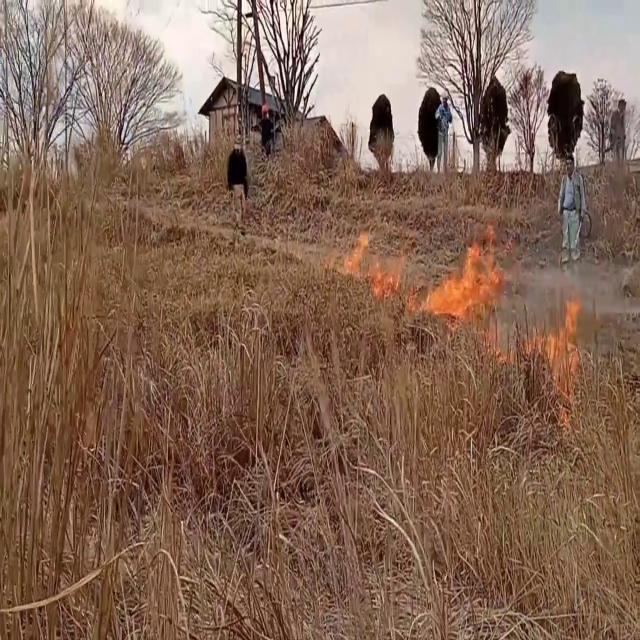Fire: (421, 237, 504, 329), (338, 222, 404, 298), (536, 294, 584, 359)
